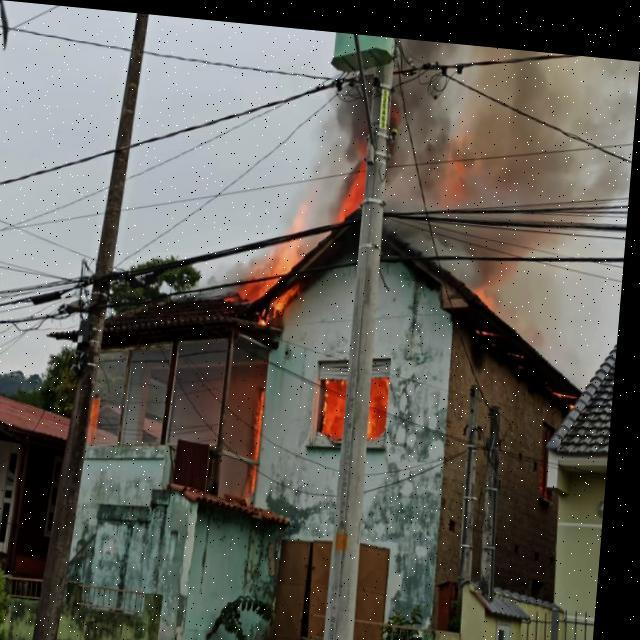Fire: (219, 197, 322, 327), (322, 369, 357, 431), (254, 381, 273, 492), (338, 148, 368, 217), (373, 366, 396, 432), (471, 272, 502, 298)
